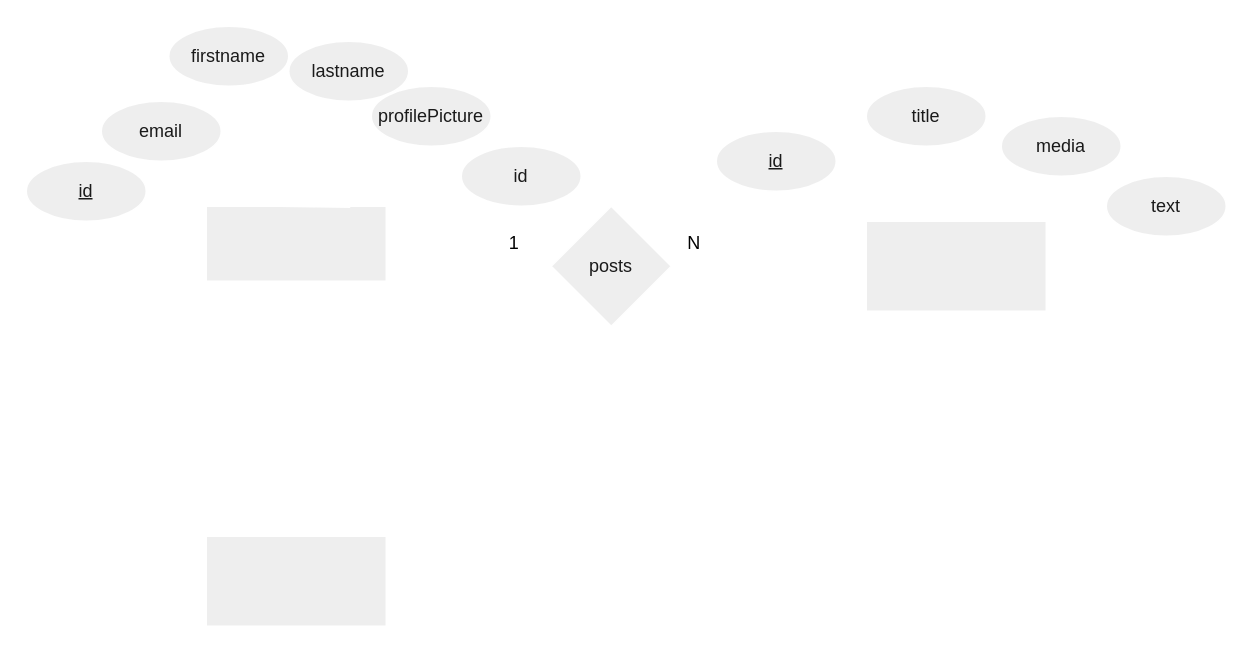
The diagram is 1253 pixels wide and 653 high, and some of its shapes have lost their labels. Here are the shapes that lost their labels. From the top down, the box of each, then its label:
(205, 205, 386, 281): User
(865, 220, 1046, 311): Post
(205, 535, 386, 626): Forum
